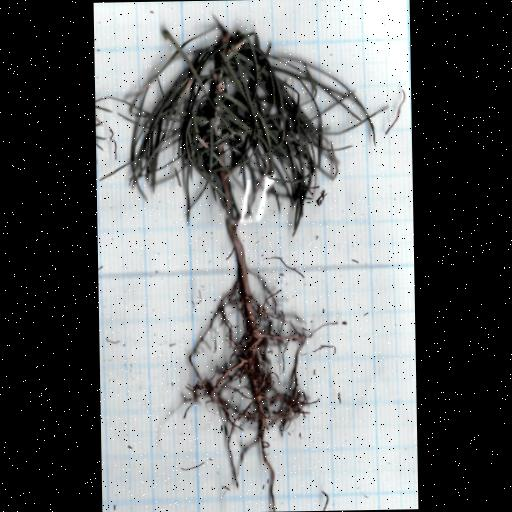flowerCedr: (99, 26, 385, 234)
rootCedr: (186, 271, 327, 488)
stemCedr: (227, 218, 249, 291)
